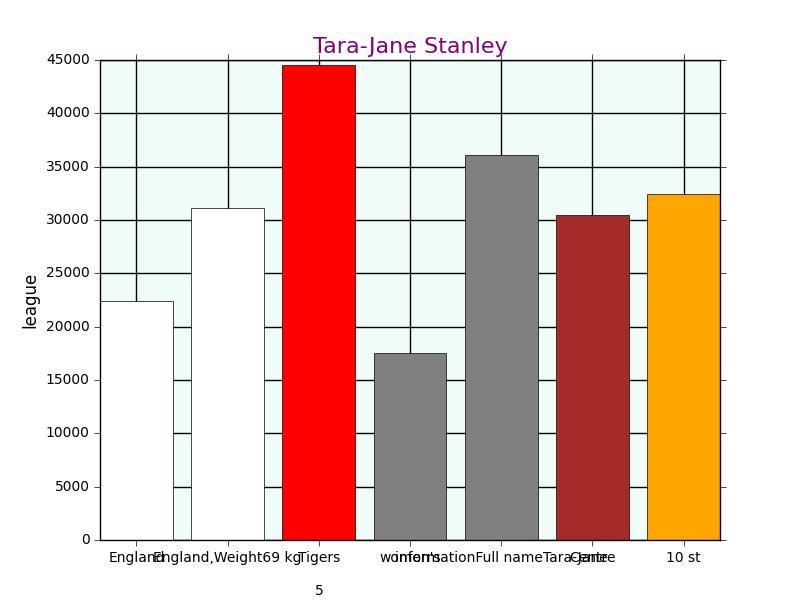axis: (22, 54, 90, 546)
rectangle: (282, 65, 356, 540), (464, 155, 538, 540), (647, 194, 720, 540), (191, 208, 264, 540), (556, 215, 629, 540), (100, 301, 173, 540), (373, 353, 446, 540)
